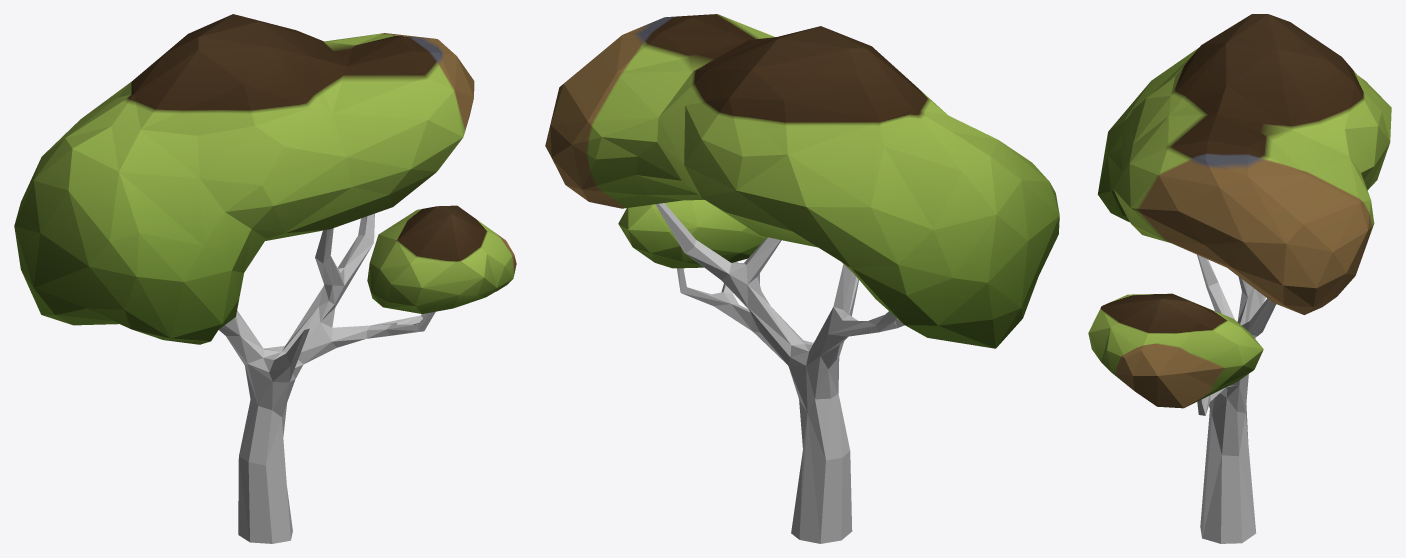
File: Tree_05.fbx
3 views of the same model, side by side, from view 1: azimuth 30°, elevation 25°; view 2: azimuth 150°, elevation 25°; view 3: azimuth 270°, elevation 25° (orthographic). The views are drawn at different scales.
Visible parts, largest first — view 1: Tree_05; view 2: Tree_05; view 3: Tree_05.
Boxes of the visible parts, left/top/right/bottom form: Tree_05: left=14, top=14, right=516, bottom=543; Tree_05: left=545, top=14, right=1059, bottom=543; Tree_05: left=1088, top=14, right=1391, bottom=543.
Bounding box in the file's own units: 5.42 × 5.78 × 3.21.
